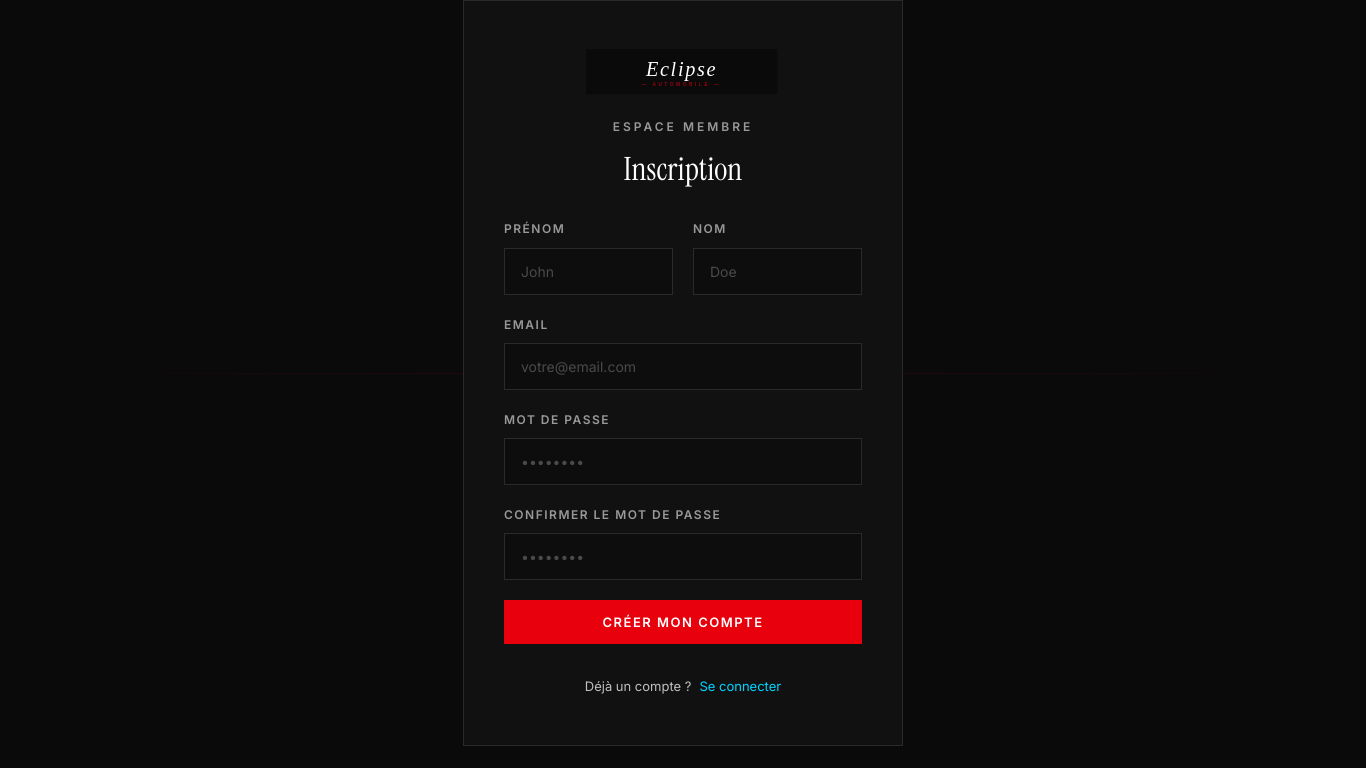
Register — validation › affiche l'erreur serveur si register échoue
Type "password123" into the password field labelled "Mot de passe" at [683, 461], box [504, 438, 862, 485]
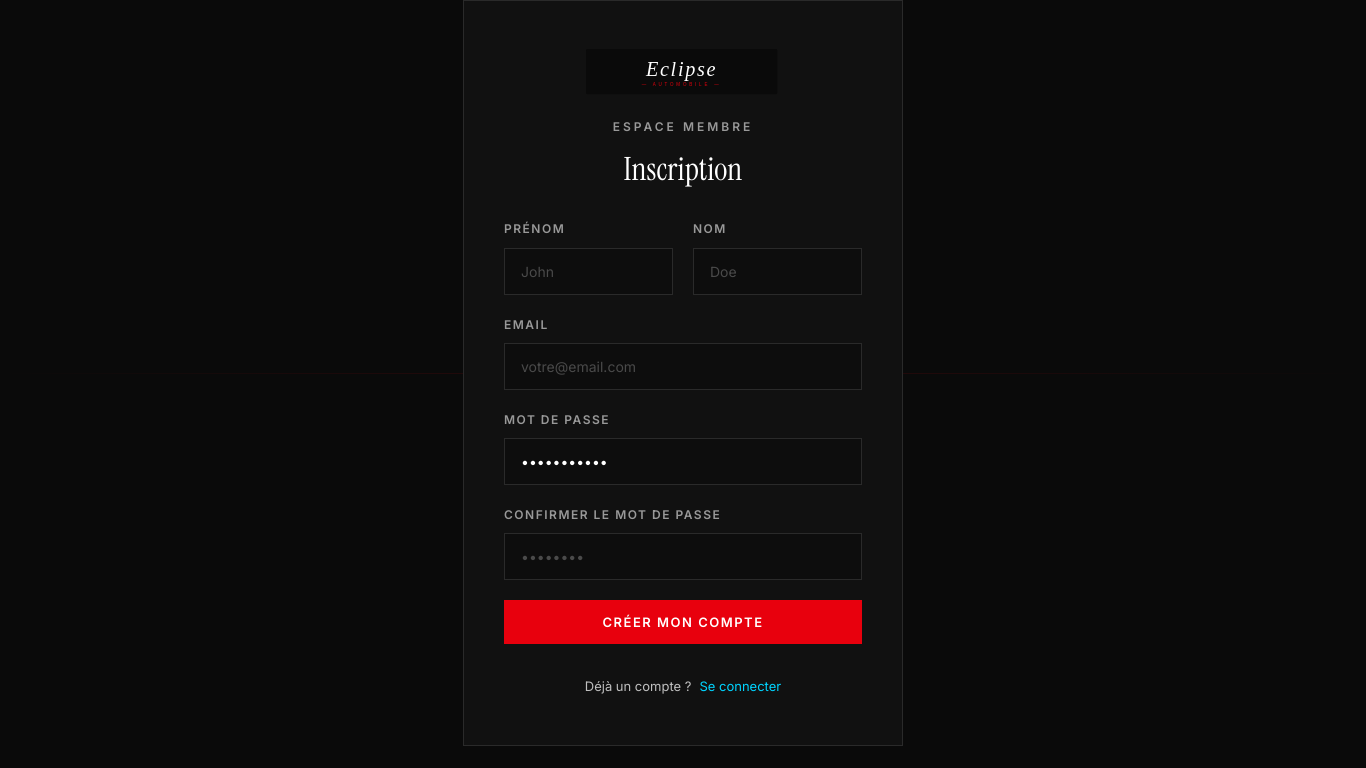
Type "password123" into the password field labelled "Confirmer le mot de passe" at [683, 557], box [504, 533, 862, 580]
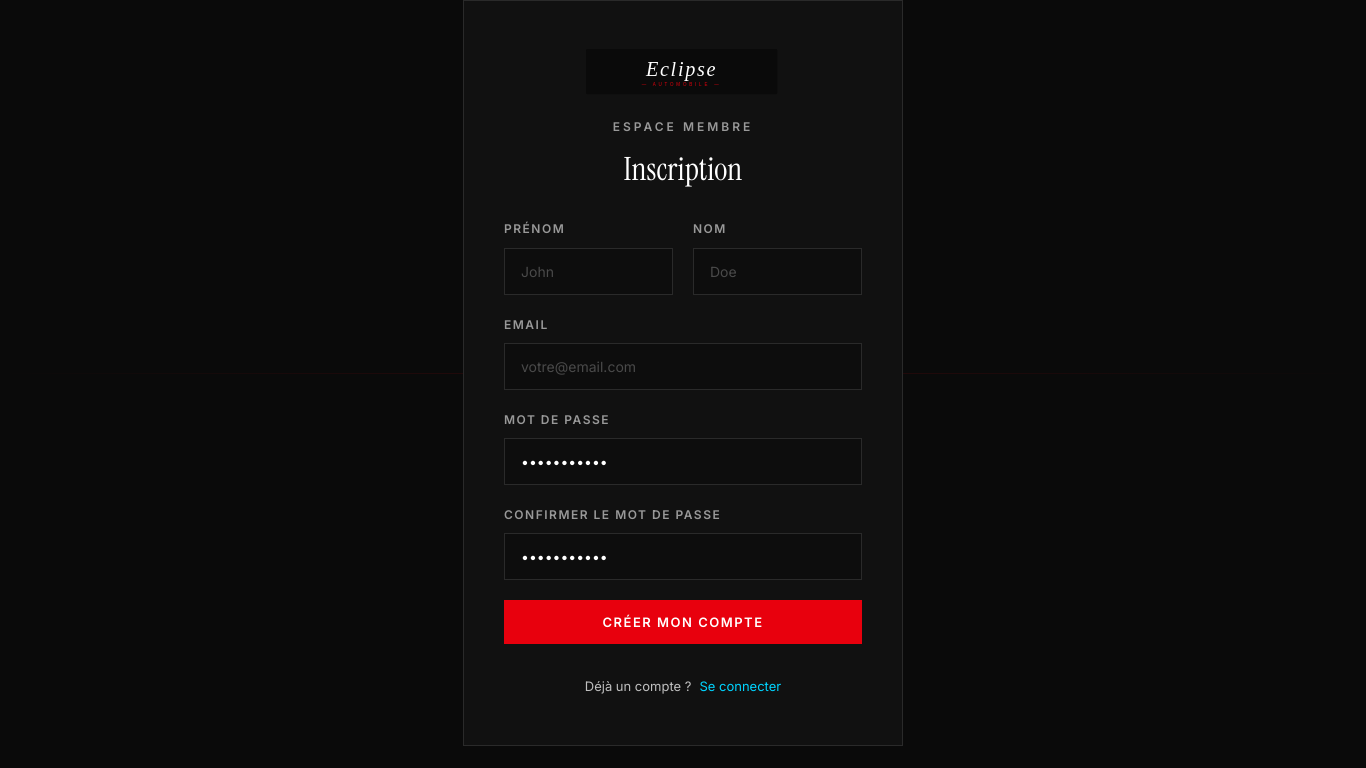
Submit the form "Créer mon compte", box [504, 219, 862, 644]
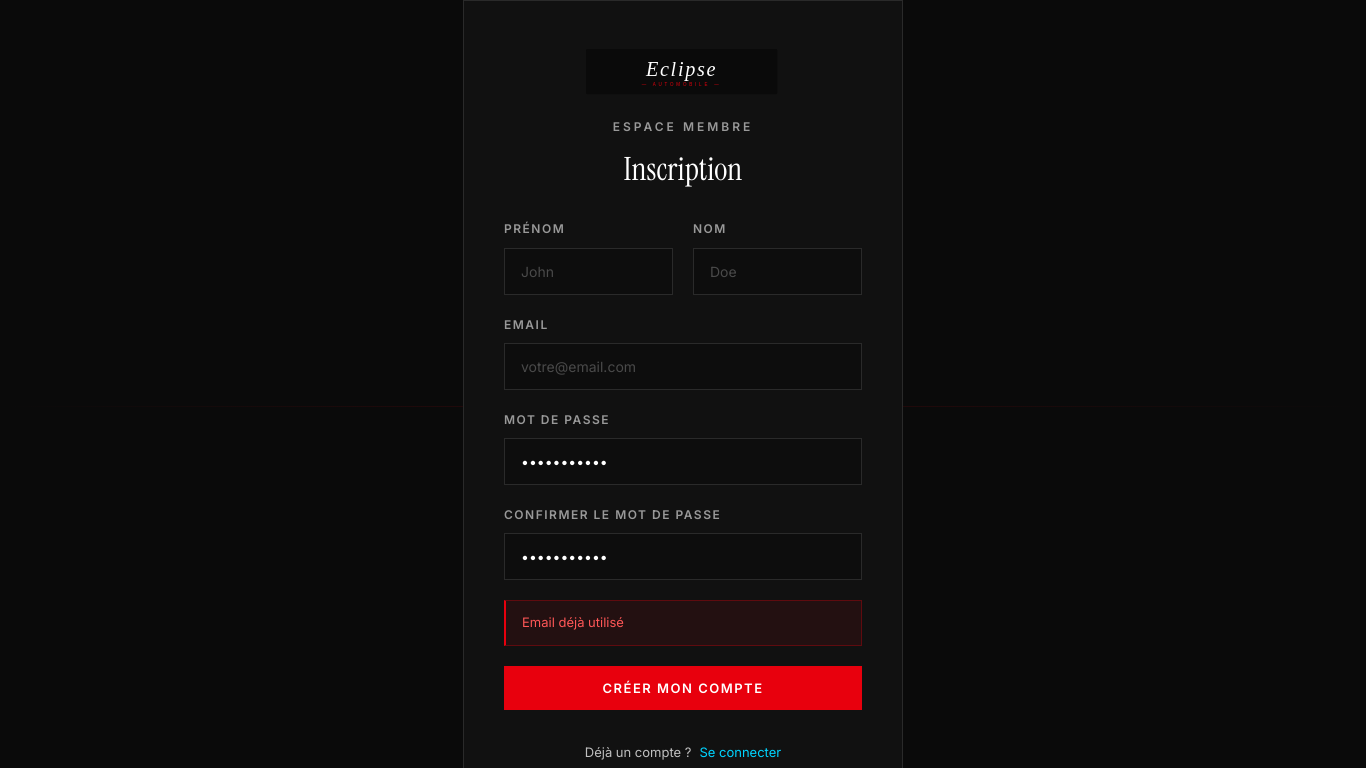
Check: the message reads "Email déjà utilisé", box [522, 614, 624, 630]
